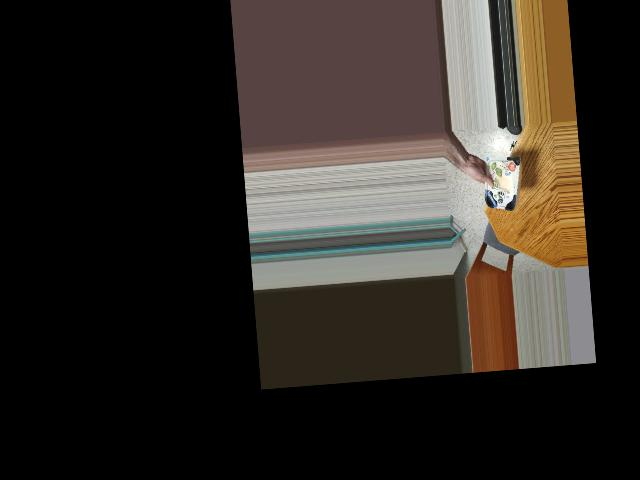cheese: (471, 151, 527, 212)
